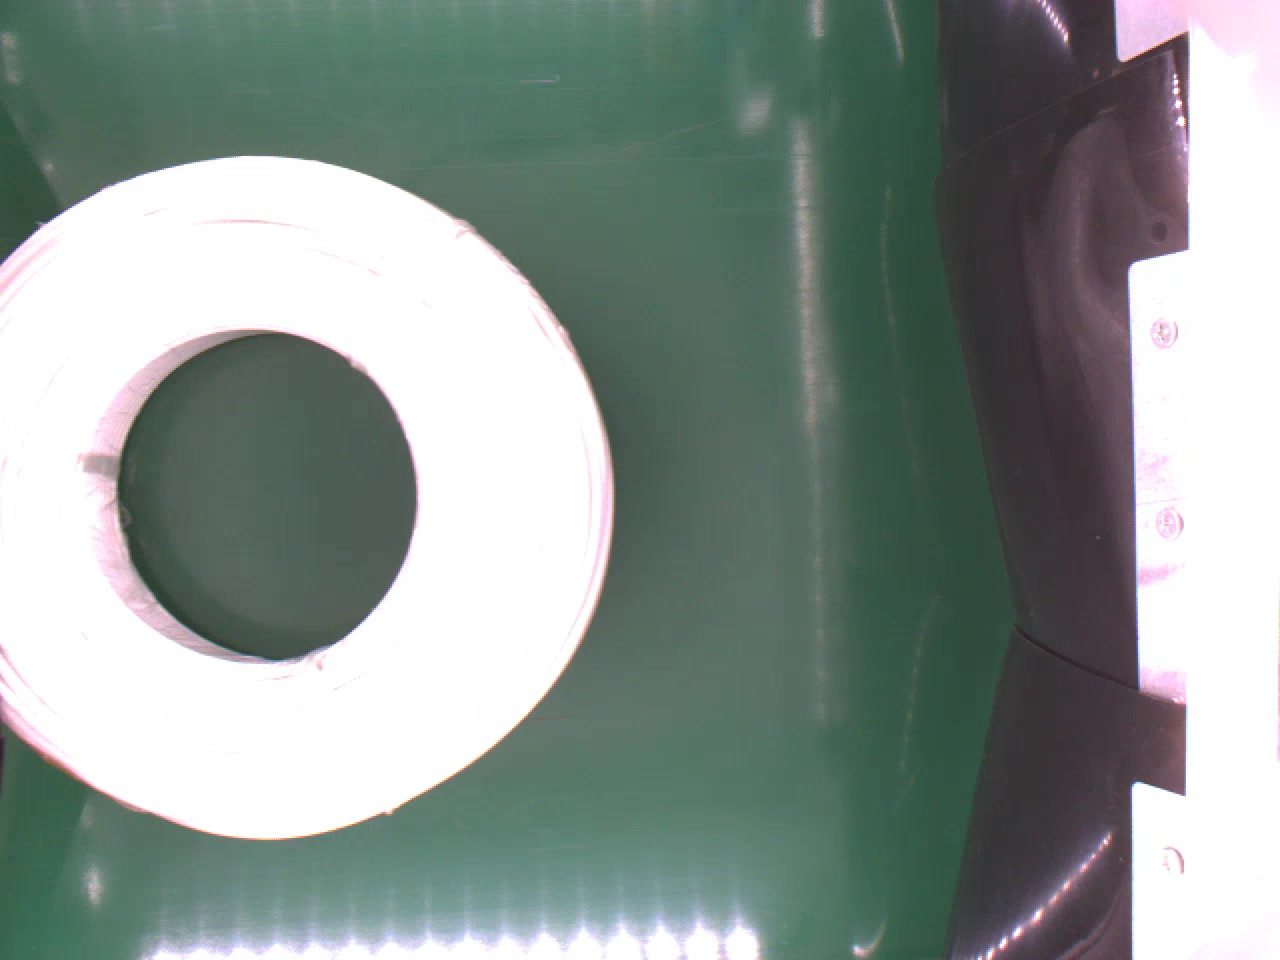white: (0, 153, 619, 842)
